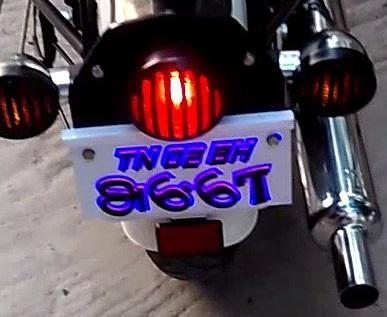licence-plate: (81, 135, 292, 216)
